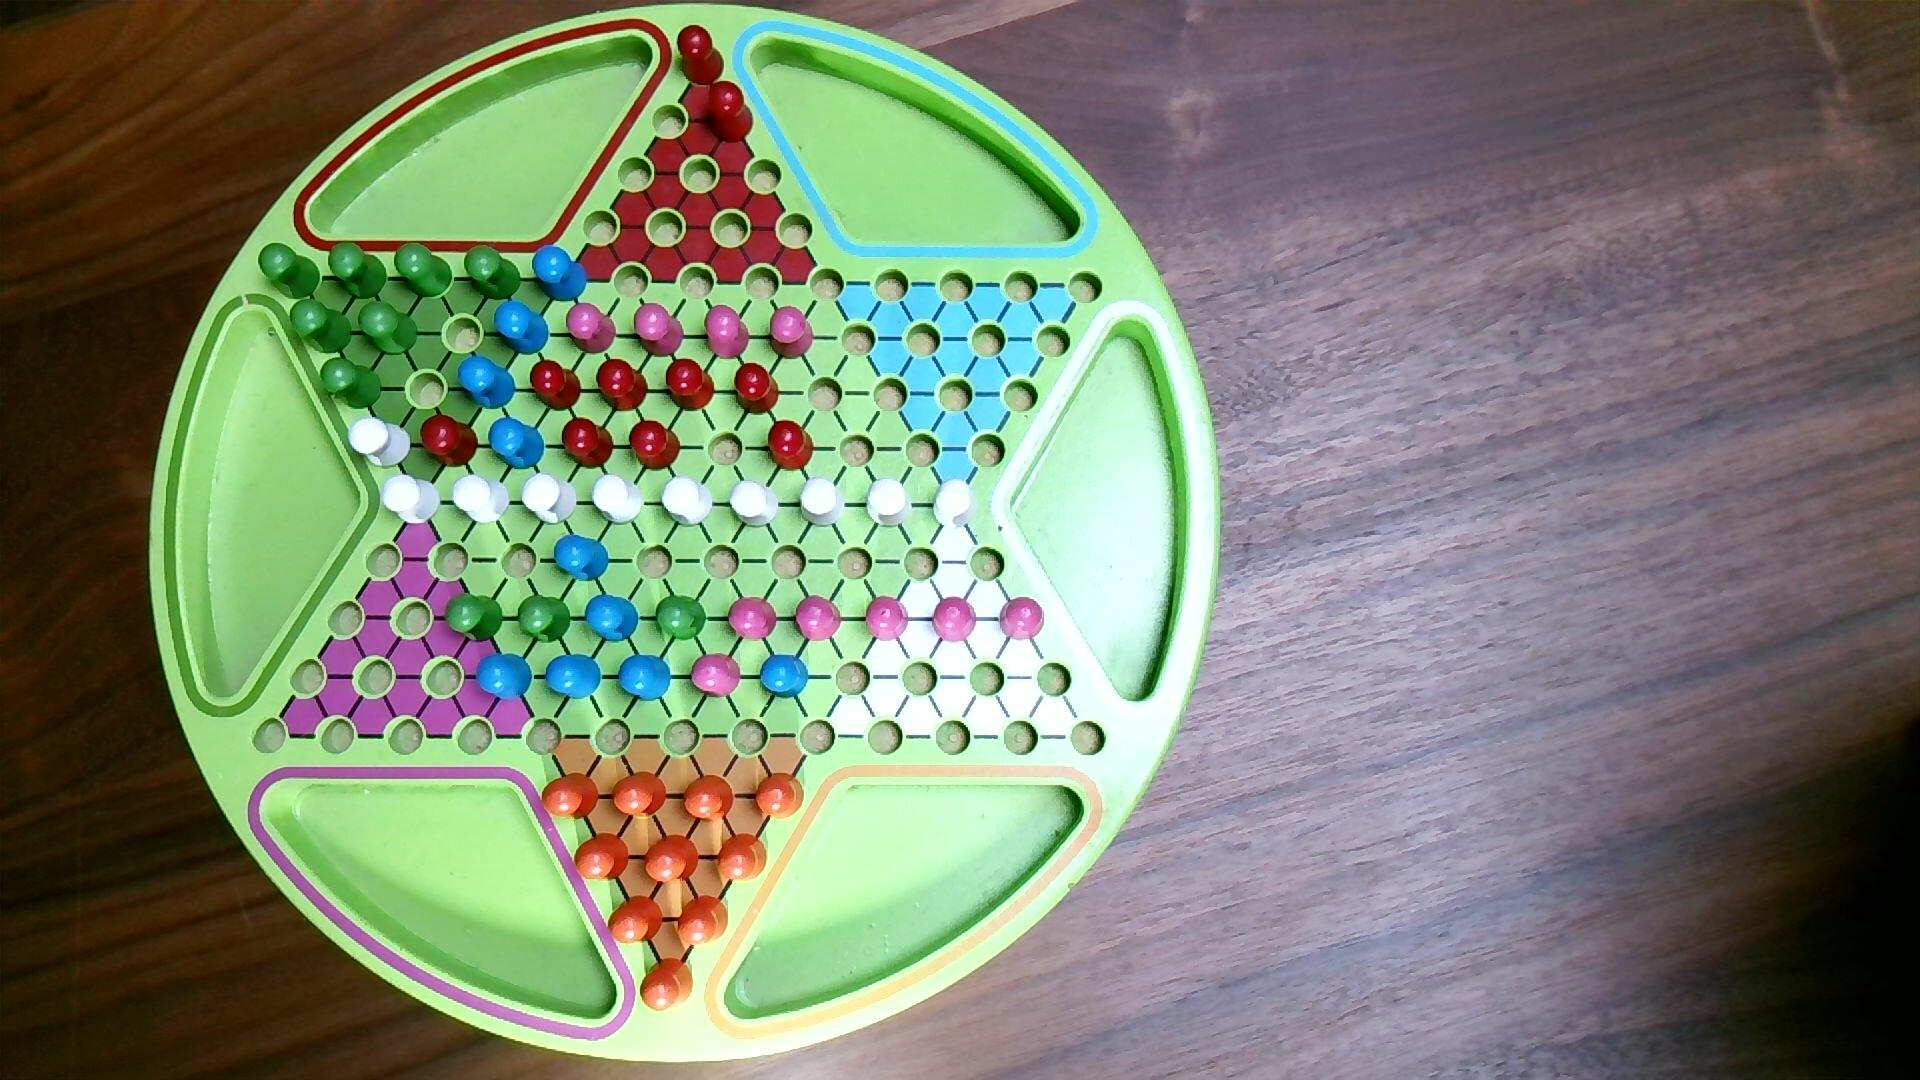B: (531, 243, 589, 305), (487, 415, 547, 473), (458, 353, 518, 411), (493, 299, 551, 357), (473, 651, 535, 703), (553, 531, 611, 585), (582, 592, 641, 645), (617, 651, 673, 705), (545, 651, 604, 702), (758, 651, 811, 702)
G: (257, 241, 323, 301), (327, 240, 389, 302), (289, 298, 355, 356), (392, 241, 455, 301), (463, 243, 524, 302), (357, 299, 419, 357), (319, 357, 384, 411), (443, 591, 506, 645), (516, 592, 574, 646), (653, 593, 708, 644)
O: (637, 956, 696, 1014), (541, 771, 601, 822), (607, 894, 665, 945), (644, 833, 702, 885), (574, 832, 632, 884), (611, 770, 669, 822), (676, 894, 731, 948), (716, 833, 770, 885), (682, 774, 736, 824), (754, 771, 807, 822)
R: (419, 413, 481, 469), (705, 80, 756, 146), (676, 22, 727, 87), (595, 357, 650, 414), (560, 415, 616, 471), (628, 419, 683, 472), (530, 357, 583, 413), (665, 357, 716, 413), (767, 419, 816, 473), (733, 361, 781, 415)
R2: (632, 302, 687, 359), (564, 302, 618, 357), (703, 305, 752, 363), (767, 305, 816, 363), (793, 593, 844, 644), (688, 653, 742, 700), (997, 595, 1047, 644), (727, 596, 779, 642), (862, 595, 911, 644), (931, 596, 978, 645)
W: (347, 415, 414, 472), (520, 471, 580, 527), (380, 473, 442, 527), (452, 472, 512, 527), (591, 473, 647, 527), (659, 475, 716, 529), (729, 477, 781, 531), (865, 477, 914, 531), (932, 477, 978, 533), (799, 476, 847, 527)
